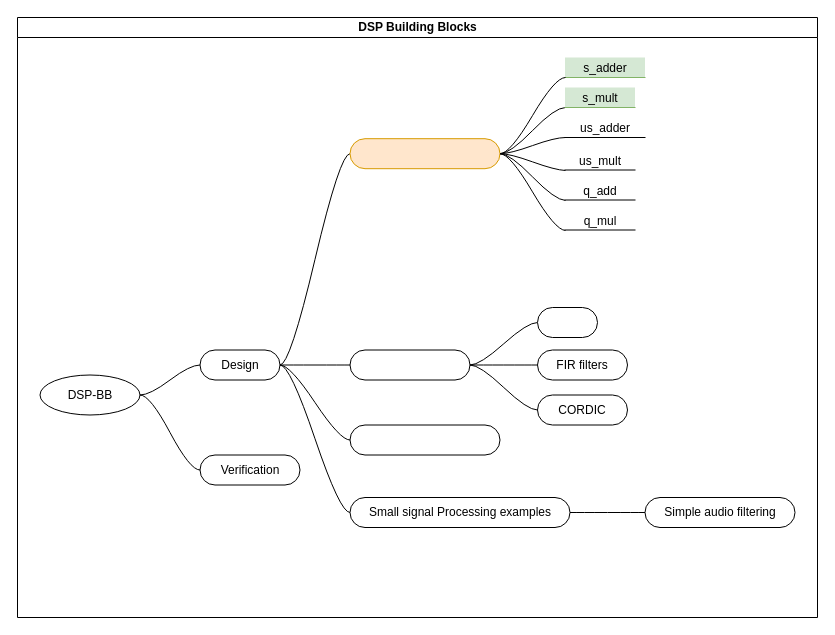
The diagram is 835 pixels wide and 635 high, and some of its shapes have lost their labels. The centre of each missing label's shape, as x and y in pixels:
Arithmetic Primitives: the point at 424,153
DSP Primitives: the point at 409,364
FFT: the point at 567,322
Wishbone Interfacing: the point at 424,439
